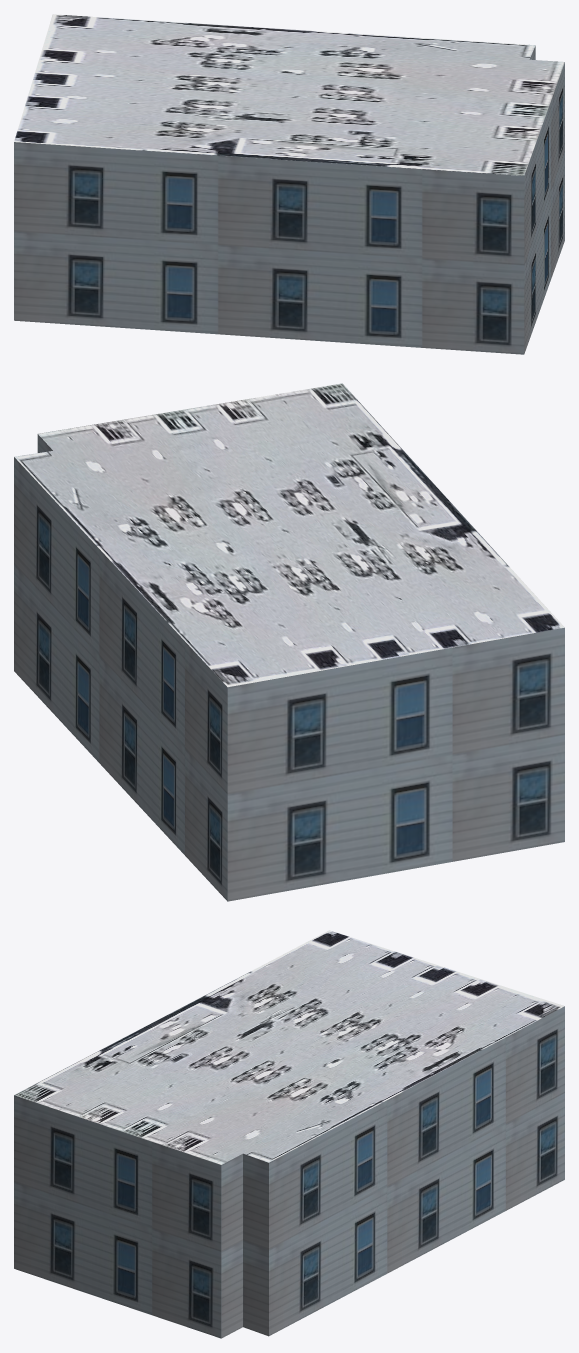
The model's file is ResTex__918.fbx.
The picture shows the model from 3 angles, top to bottom: view 1: azimuth 30°, elevation 25°; view 2: azimuth 150°, elevation 25°; view 3: azimuth 270°, elevation 25°; orthographic projection. The views are drawn at different scales.
Visible parts, largest first — view 1: CityEngineMaterial_18_m, CityEngineMaterial_4_m; view 2: CityEngineMaterial_18_m, CityEngineMaterial_4_m; view 3: CityEngineMaterial_18_m, CityEngineMaterial_4_m.
Part boxes in pixels (x1,y1,x2,y2): CityEngineMaterial_18_m: (14,46,564,354); CityEngineMaterial_4_m: (14,14,564,175); CityEngineMaterial_18_m: (14,434,564,901); CityEngineMaterial_4_m: (14,383,564,687); CityEngineMaterial_18_m: (14,1006,564,1338); CityEngineMaterial_4_m: (14,930,564,1164).
Size of the model in its own units: 17.41 by 6 by 17.26.
Materials: 2 (2 with a texture image).
